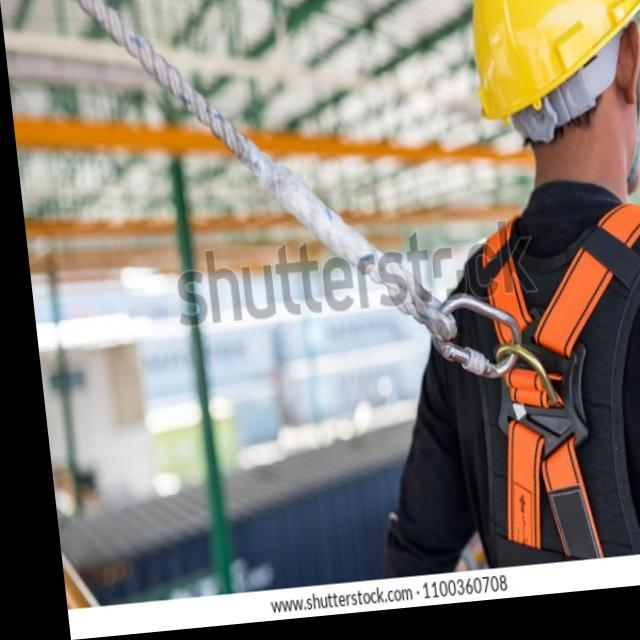belt: (444, 285, 636, 558)
